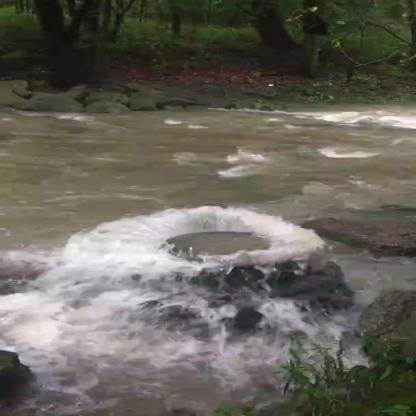drainage overflow-repair-: (0, 200, 353, 360)
